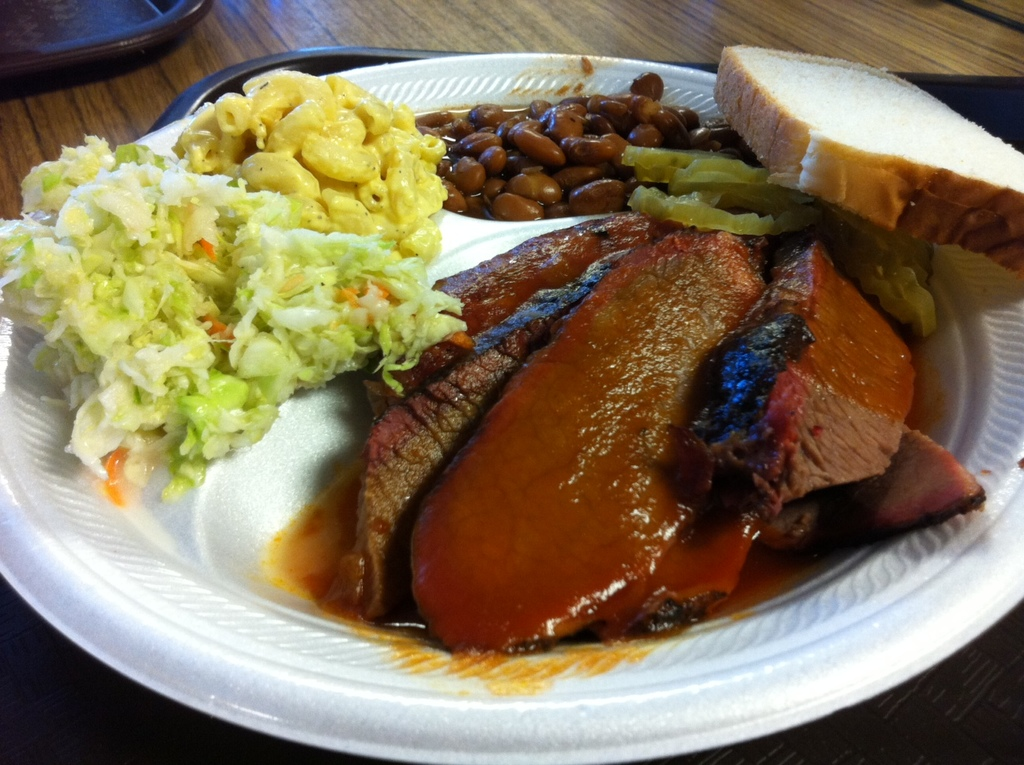salad: (0, 133, 472, 496)
